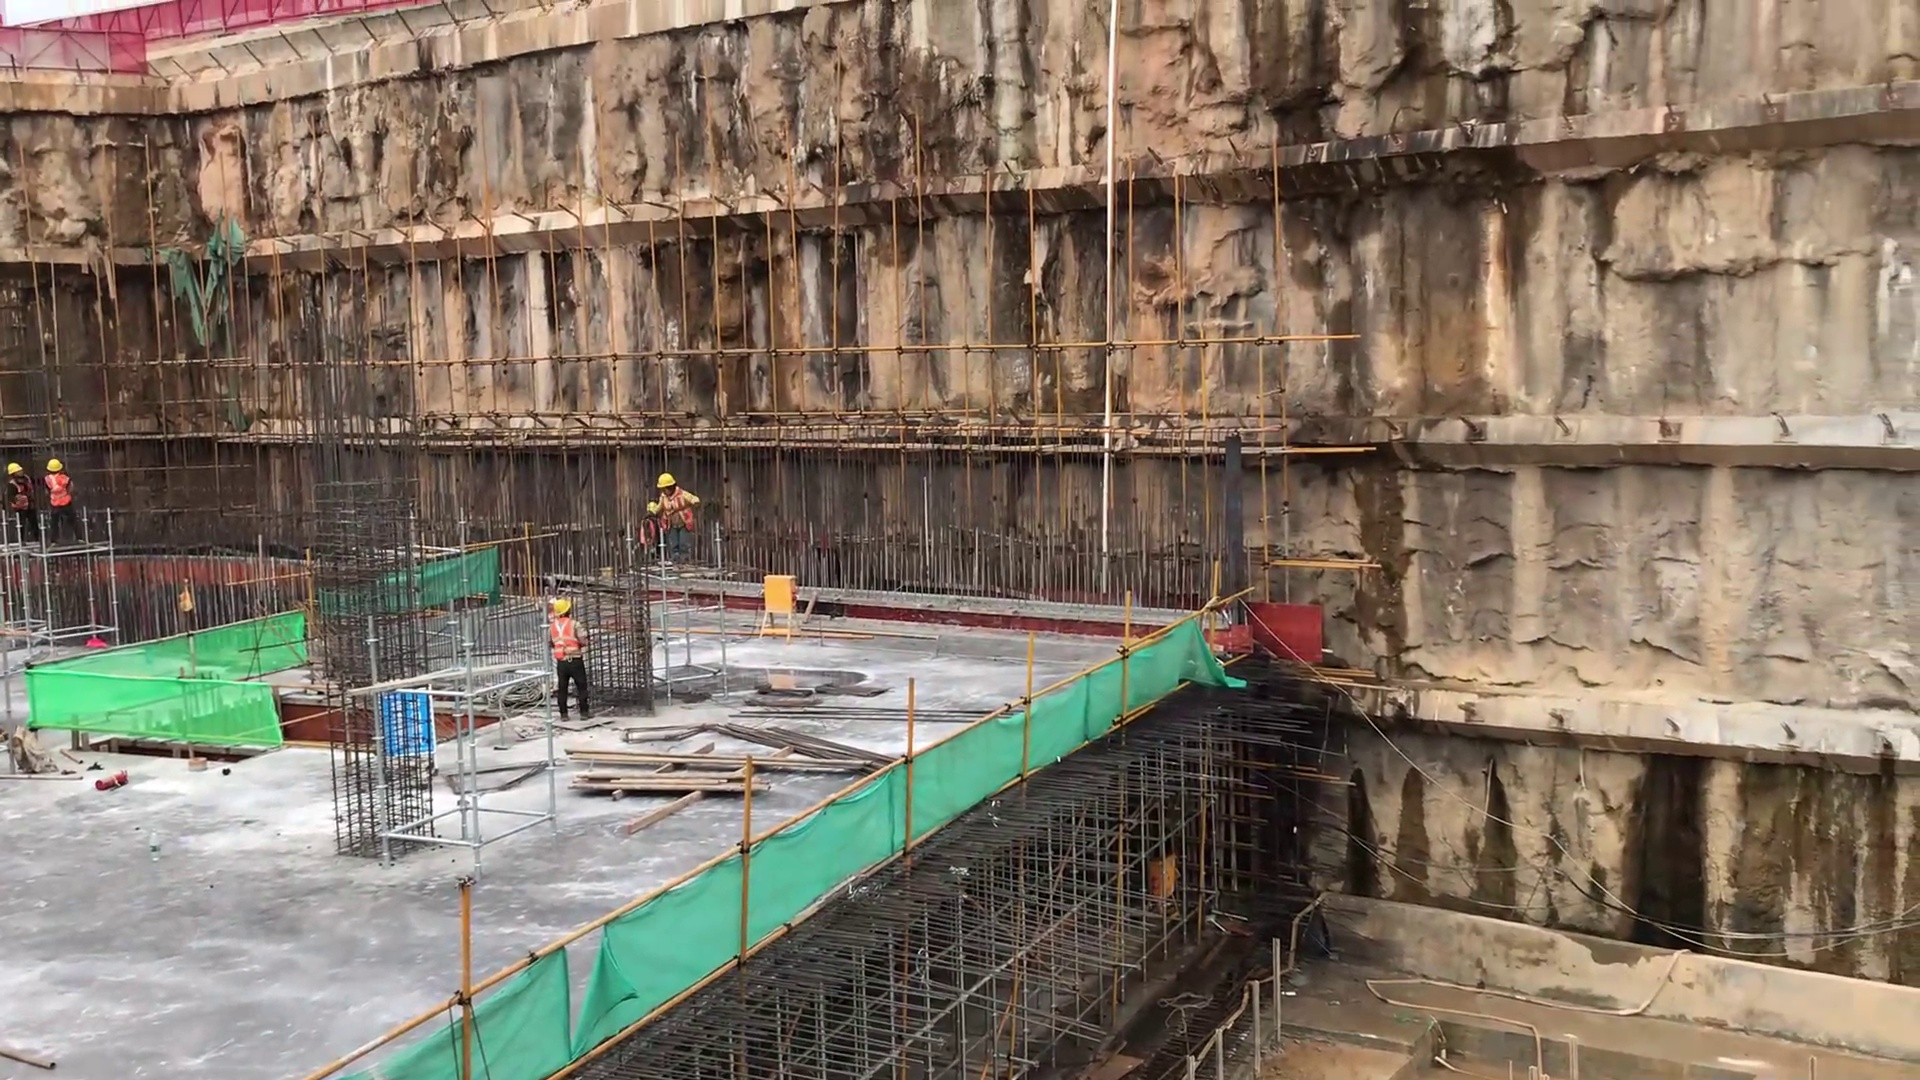helmet: (653, 471, 680, 496), (548, 597, 576, 615), (49, 452, 63, 475), (645, 500, 662, 516), (5, 460, 21, 474)
person: (539, 592, 596, 733), (647, 469, 716, 566), (1, 451, 42, 554), (44, 454, 89, 547)
vest: (546, 616, 590, 660), (663, 491, 705, 531), (43, 470, 78, 509), (7, 474, 38, 513), (639, 518, 661, 548)
